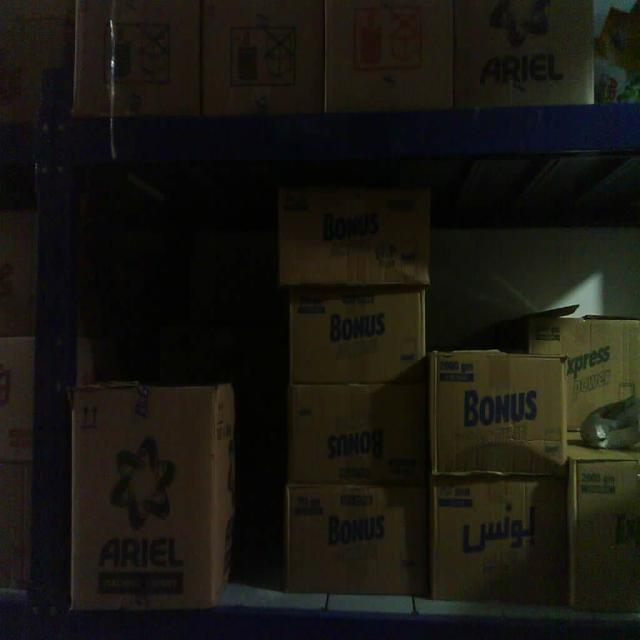box: (72, 384, 217, 613), (436, 477, 566, 601), (431, 350, 567, 468), (286, 484, 430, 591), (453, 0, 593, 109), (278, 190, 431, 285), (528, 313, 640, 442), (326, 0, 452, 110), (77, 0, 198, 113), (201, 0, 322, 111), (288, 286, 427, 382), (294, 388, 427, 473), (570, 453, 640, 612)
